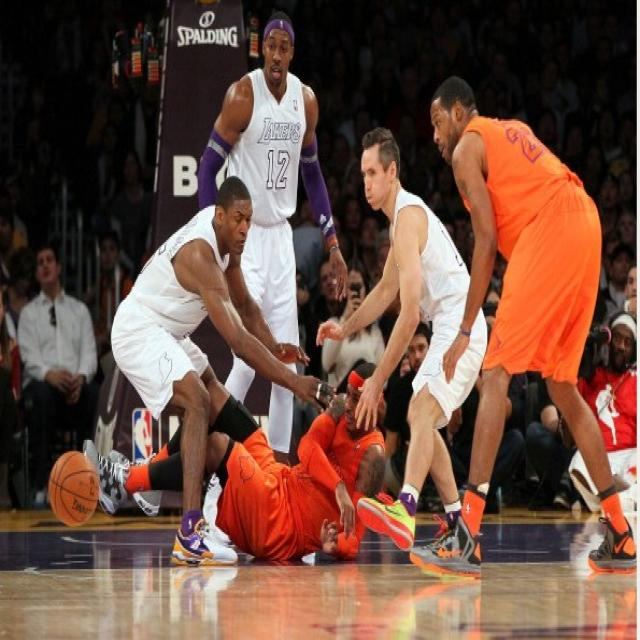10-: (0, 0, 634, 579)
down: (175, 345, 393, 574)
